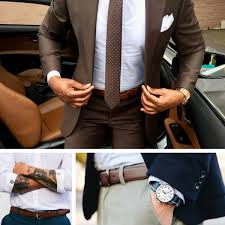F_belt: (91, 161, 157, 188), (82, 81, 155, 103), (6, 204, 76, 222)
F_tie: (100, 1, 125, 107)
